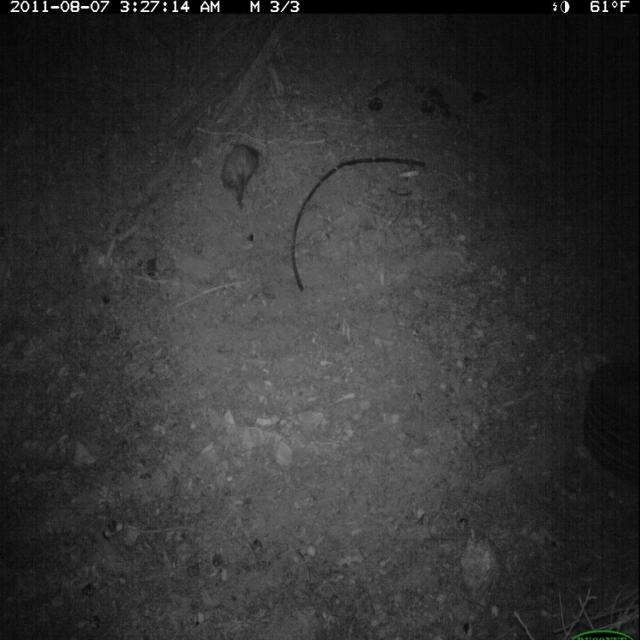opossum: (219, 139, 263, 212)
